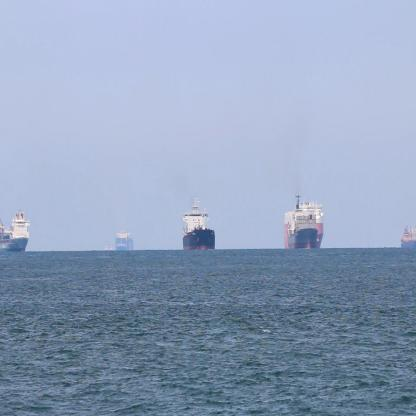Container Ship: (283, 193, 325, 252), (182, 193, 216, 255), (0, 208, 32, 256), (114, 230, 135, 258), (400, 226, 415, 252), (102, 247, 115, 258)
